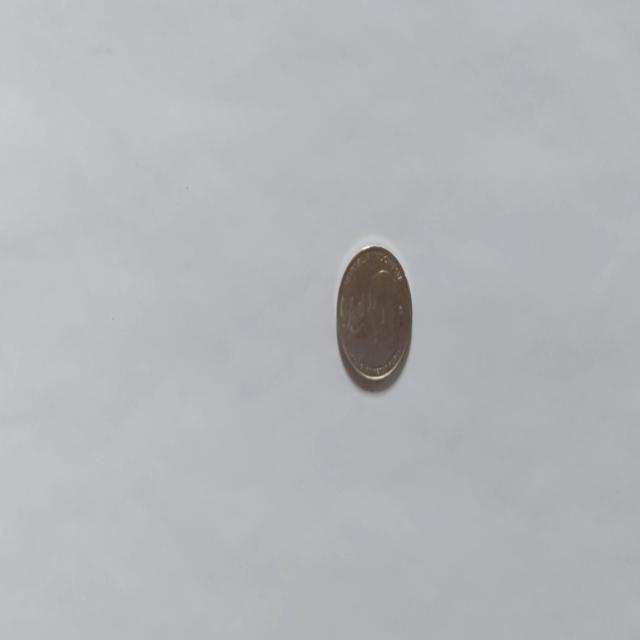seribu rupiah koin: (335, 240, 413, 388)
